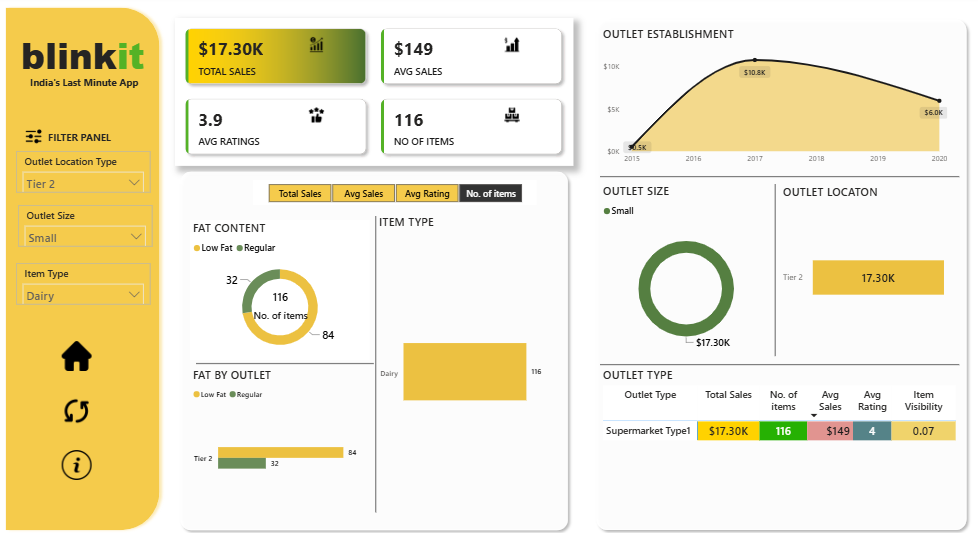

The dashboard page shown, as its layout file describes it:
{"tool":"powerbi","page":{"name":"Dashboard","canvas":[1600,900],"ordinal":0},"visuals":[{"type":"shape","box":[0,10,270,873.3],"z":0},{"type":"textbox","box":[30,48.6,232.9,95.7],"z":1000},{"type":"textbox","box":[44.3,125.7,205.7,37.1],"z":2000},{"type":"cardVisual","fields":{"Data":["BlinkIT Grocery Data.Total Sales","BlinkIT Grocery Data.Avg Sales","BlinkIT Grocery Data.Avg Rating","BlinkIT Grocery Data.Number of items"]},"box":[286.7,36.7,651.7,241.7],"z":3000},{"type":"shape","box":[286.7,278.3,651.7,605],"z":4000},{"type":"donutChart","title":"FAT CONTENT","fields":{"Y":["BlinkIT Grocery Data.No. of items"],"Category":["BlinkIT Grocery Data.Item Fat Content"]},"box":[311.7,367.3,294.3,228.6],"z":5000},{"type":"slicer","fields":{"Values":["Metrics.Metrics"]},"box":[413.2,301.6,464.5,40.7],"z":6000},{"type":"card","fields":{"Values":["BlinkIT Grocery Data.No. of items"]},"box":[406.7,456.7,103.3,95],"z":7000},{"type":"clusteredBarChart","title":"FAT BY OUTLET","fields":{"Y":["BlinkIT Grocery Data.No. of items"],"Category":["BlinkIT Grocery Data.Outlet Location Type"],"Series":["BlinkIT Grocery Data.Item Fat Content"]},"box":[311.7,606.7,295,238.3],"z":8000},{"type":"shape","box":[320,580,291.4,44.3],"z":9000},{"type":"shape","box":[595,360,38.3,485],"z":10000},{"type":"barChart","title":"ITEM TYPE","fields":{"Y":["BlinkIT Grocery Data.No. of items"],"Category":["BlinkIT Grocery Data.Item Type"]},"box":[615,356.7,310,488.3],"z":11000},{"type":"shape","box":[966.7,30,623.3,853.3],"z":12000},{"type":"lineChart","title":"OUTLET ESTABLISHMENT","fields":{"Category":["BlinkIT Grocery Data.Outlet Establishment Year"],"Y":["BlinkIT Grocery Data.Total Sales"]},"box":[981.7,48.3,573.3,235],"z":13000},{"type":"shape","box":[981.7,279,588.1,34.7],"z":14000},{"type":"donutChart","title":"OUTLET SIZE","fields":{"Y":["BlinkIT Grocery Data.Total Sales"],"Category":["BlinkIT Grocery Data.Outlet Size"]},"box":[981.7,306.1,282,289.5],"z":15000},{"type":"shape","box":[1248.3,308.3,40,281.7],"z":16000},{"type":"funnel","title":"OUTLET LOCATON","fields":{"Y":["Sum(BlinkIT Grocery Data.Sales)"],"Category":["BlinkIT Grocery Data.Outlet Location Type"]},"box":[1276.7,308.3,278.3,280],"z":17000},{"type":"shape","box":[981.7,585.1,588.1,34.7],"z":18000},{"type":"pivotTable","title":"OUTLET TYPE","fields":{"Rows":["BlinkIT Grocery Data.Outlet Type"],"Values":["BlinkIT Grocery Data.Total Sales","BlinkIT Grocery Data.No. of items","BlinkIT Grocery Data.Avg Sales","BlinkIT Grocery Data.Avg Rating","Avg(BlinkIT Grocery Data.Item Visibility)"]},"box":[981.7,606.7,588.3,238.3],"z":19000},{"type":"slicer","fields":{"Values":["BlinkIT Grocery Data.Outlet Location Type"]},"box":[26.7,253.3,220,68.3],"z":20000},{"type":"slicer","fields":{"Values":["BlinkIT Grocery Data.Outlet Size"]},"box":[30,341.7,220,68.3],"z":21000},{"type":"slicer","fields":{"Values":["BlinkIT Grocery Data.Item Type"]},"box":[26.7,436.7,220,68.3],"z":22000},{"type":"textbox","box":[74.2,215.7,123.7,37.7],"z":23000},{"type":"image","box":[95,559.5,60.3,58.8],"z":24000},{"type":"image","box":[36.5,206.6,37.7,46.7],"z":25000},{"type":"image","box":[95,650,60.3,58.8],"z":26000},{"type":"image","box":[95,737.4,60.3,58.8],"z":28000}]}

Visuals, with their boxes on the page's 1600x900 design canvas (x1, y1, x2, y2). These are canvas units, not pixel positions in the 978x533 screenshot, which may show the page scaled, cropped or inside an application window:
shape: 0,10,270,883
textbox: 30,49,263,144
textbox: 44,126,250,163
cardVisual - BlinkIT Grocery Data.Total Sales x BlinkIT Grocery Data.Avg Sales: 287,37,938,278
shape: 287,278,938,883
"FAT CONTENT" donutChart: 312,367,606,596
slicer - Metrics.Metrics: 413,302,878,342
card - BlinkIT Grocery Data.No. of items: 407,457,510,552
"FAT BY OUTLET" clusteredBarChart: 312,607,607,845
shape: 320,580,611,624
shape: 595,360,633,845
"ITEM TYPE" barChart: 615,357,925,845
shape: 967,30,1590,883
"OUTLET ESTABLISHMENT" lineChart: 982,48,1555,283
shape: 982,279,1570,314
"OUTLET SIZE" donutChart: 982,306,1264,596
shape: 1248,308,1288,590
"OUTLET LOCATON" funnel: 1277,308,1555,588
shape: 982,585,1570,620
"OUTLET TYPE" pivotTable: 982,607,1570,845
slicer - BlinkIT Grocery Data.Outlet Location Type: 27,253,247,322
slicer - BlinkIT Grocery Data.Outlet Size: 30,342,250,410
slicer - BlinkIT Grocery Data.Item Type: 27,437,247,505
textbox: 74,216,198,253
image: 95,560,155,618
image: 36,207,74,253
image: 95,650,155,709
image: 95,737,155,796
